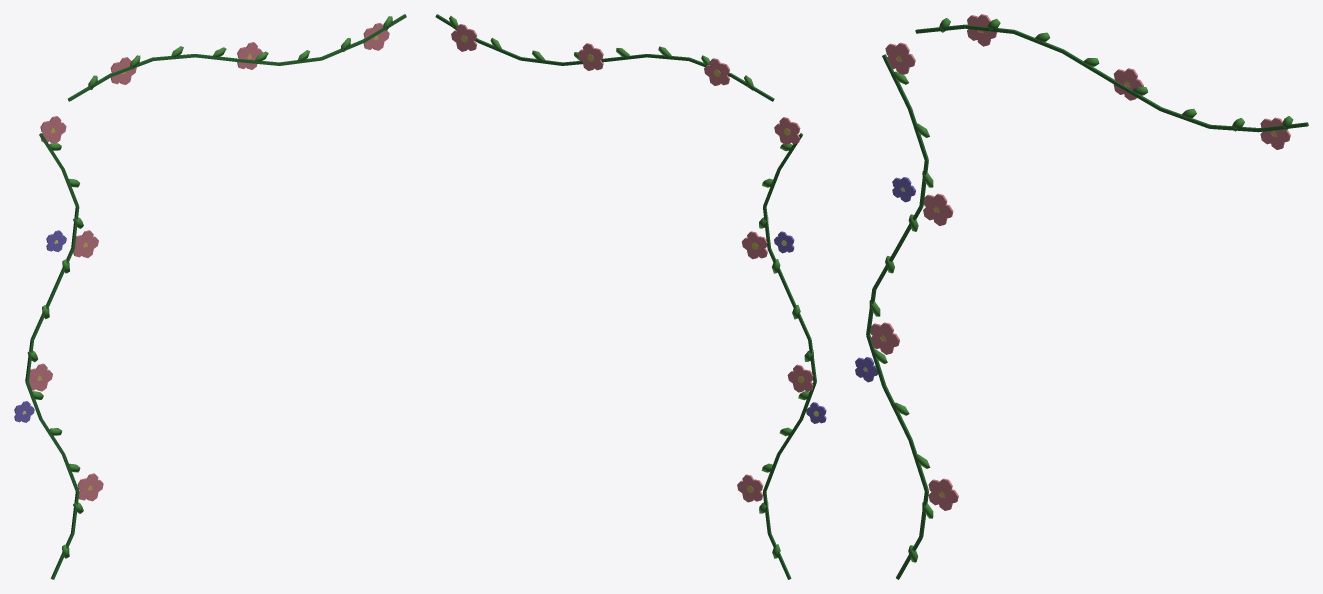
The model's file is motif_wall_vines.glb.
The picture shows the model from 3 angles, left to right: view 1: azimuth 30°, elevation 25°; view 2: azimuth 150°, elevation 25°; view 3: azimuth 330°, elevation 25°; orthographic projection. The views are drawn at different scales.
Parts seen in each view (by area): view 1: motif_wall_vines; view 2: motif_wall_vines; view 3: motif_wall_vines.
Boxes of the visible parts, x1,y1,x2,y2 form: motif_wall_vines: [14, 14, 406, 579]; motif_wall_vines: [435, 14, 826, 579]; motif_wall_vines: [855, 14, 1308, 579].
Size of the model in its own units: 1.21 by 1.48 by 0.0128.
